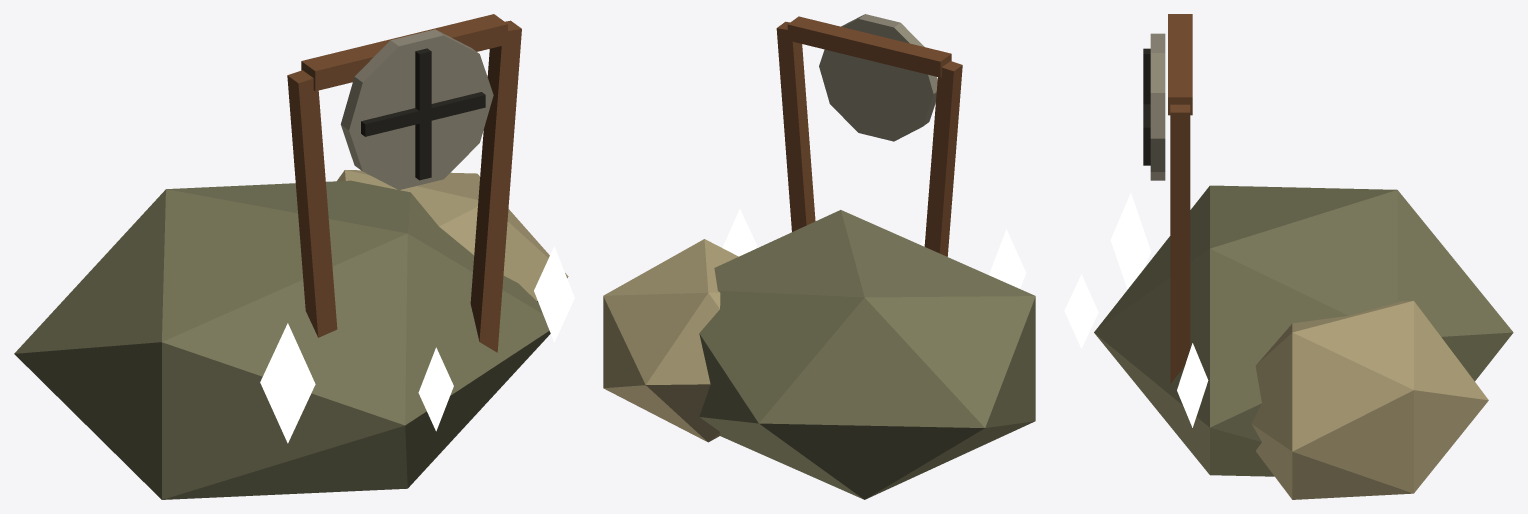
File: mine_t1.glb
3 renders of one model, left to right at view 1: azimuth 30°, elevation 25°; view 2: azimuth 150°, elevation 25°; view 3: azimuth 270°, elevation 25°, orthographic. The views are drawn at different scales.
Visible parts, largest first — view 1: body, part_rotor, glow; view 2: body, part_rotor, glow; view 3: body, glow, part_rotor.
Part boxes in pixels (<box>): body: <box>14,14,568,499</box>; part_rotor: <box>340,29,493,190</box>; glow: <box>260,246,574,443</box>; body: <box>603,16,1035,499</box>; part_rotor: <box>819,14,937,141</box>; glow: <box>722,209,1026,288</box>; body: <box>1094,14,1513,499</box>; glow: <box>1064,193,1208,427</box>; part_rotor: <box>1143,33,1165,180</box>.
Size of the model in its own units: 2.05 by 1.89 by 1.82.
